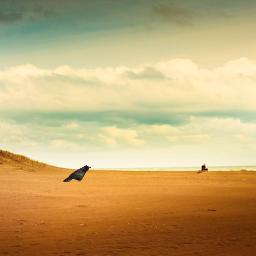Crow: (63, 165, 91, 182)
